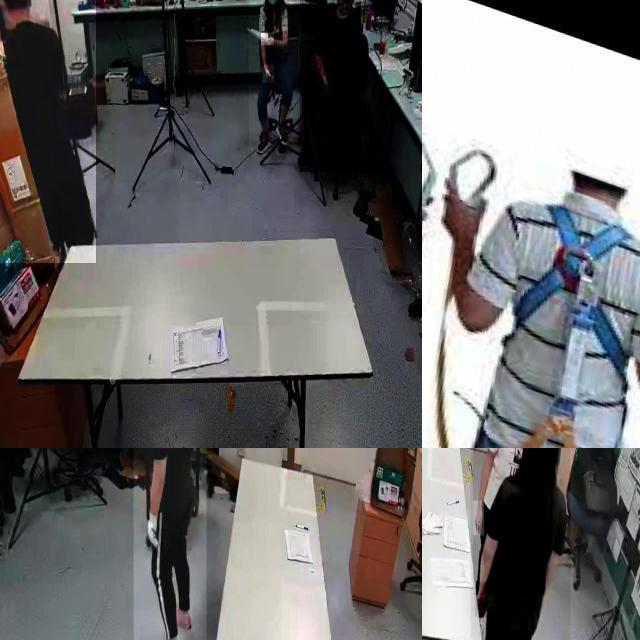Harness: (515, 205, 631, 422)
face_mask: (264, 0, 280, 6)
face_nomask: (336, 0, 351, 20)
hand_glove: (143, 513, 163, 559)
hand_noglove: (475, 582, 487, 618), (473, 501, 485, 536), (263, 65, 275, 83), (261, 33, 275, 46), (323, 76, 331, 98)
person: (0, 0, 96, 263), (470, 448, 571, 640), (133, 448, 206, 640), (473, 448, 546, 594), (300, 0, 361, 173), (249, 0, 298, 151)
shoes: (255, 122, 275, 159), (173, 600, 192, 635), (275, 115, 292, 151)
